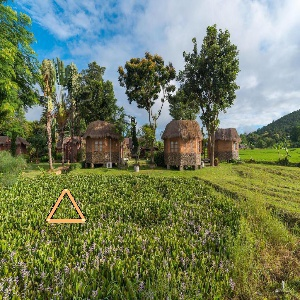triangle: (45, 188, 86, 226)
